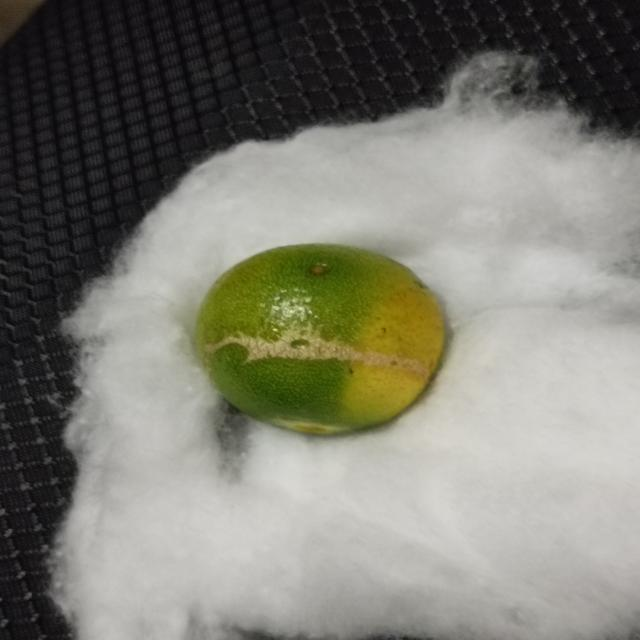thrips: (185, 237, 455, 438)
